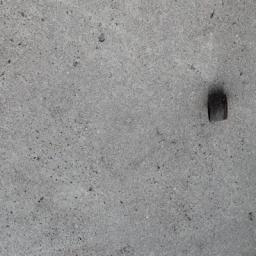FOD: (204, 89, 233, 127)
